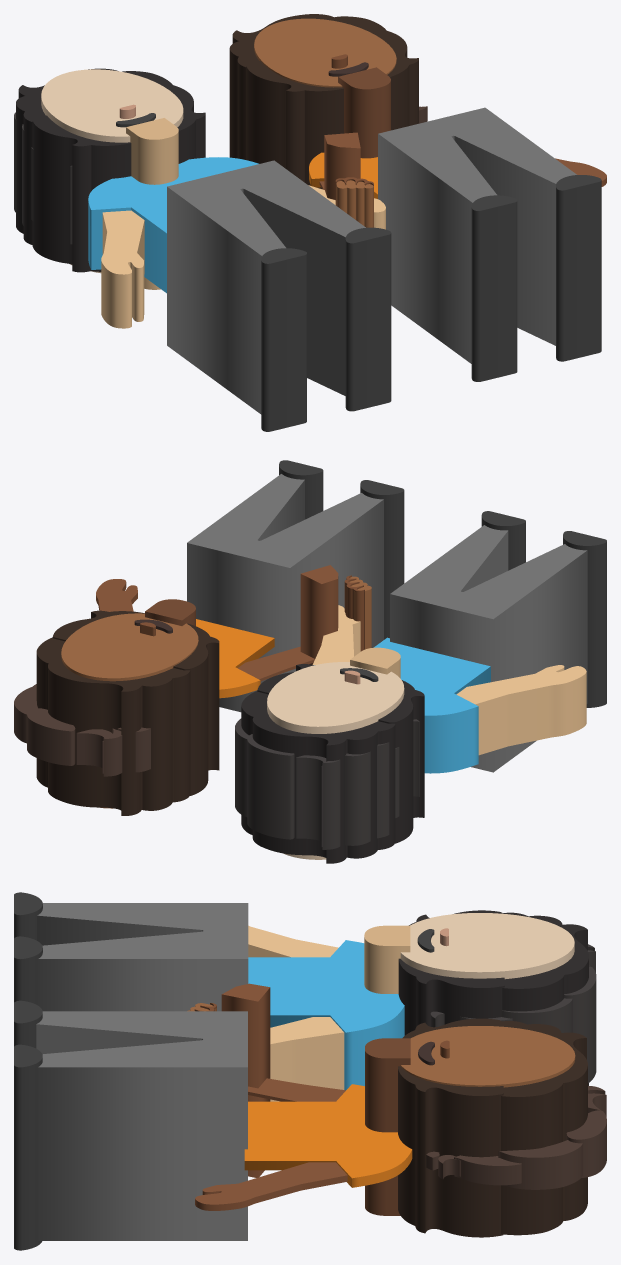
File: emoji_u1f9d1_1f3fb_200d_1f91d_200d_1f9d1_1f3fe.glb
3 views of the same model, one above another, from view 1: azimuth 30°, elevation 25°; view 2: azimuth 150°, elevation 25°; view 3: azimuth 270°, elevation 25° (orthographic). The views are drawn at different scales.
Visible parts, largest first — view 1: emoji_u1f9d1_1f3fb_200d_1f91d_200d_1f9d1_1f3fe; view 2: emoji_u1f9d1_1f3fb_200d_1f91d_200d_1f9d1_1f3fe; view 3: emoji_u1f9d1_1f3fb_200d_1f91d_200d_1f9d1_1f3fe.
Boxes of the visible parts, <box> form: emoji_u1f9d1_1f3fb_200d_1f91d_200d_1f9d1_1f3fe: <box>14,14,606,431</box>; emoji_u1f9d1_1f3fb_200d_1f91d_200d_1f9d1_1f3fe: <box>14,460,606,863</box>; emoji_u1f9d1_1f3fb_200d_1f91d_200d_1f9d1_1f3fe: <box>14,892,606,1250</box>.
Bounding box in the file's own units: 0.0346 × 0.0114 × 0.0335.
